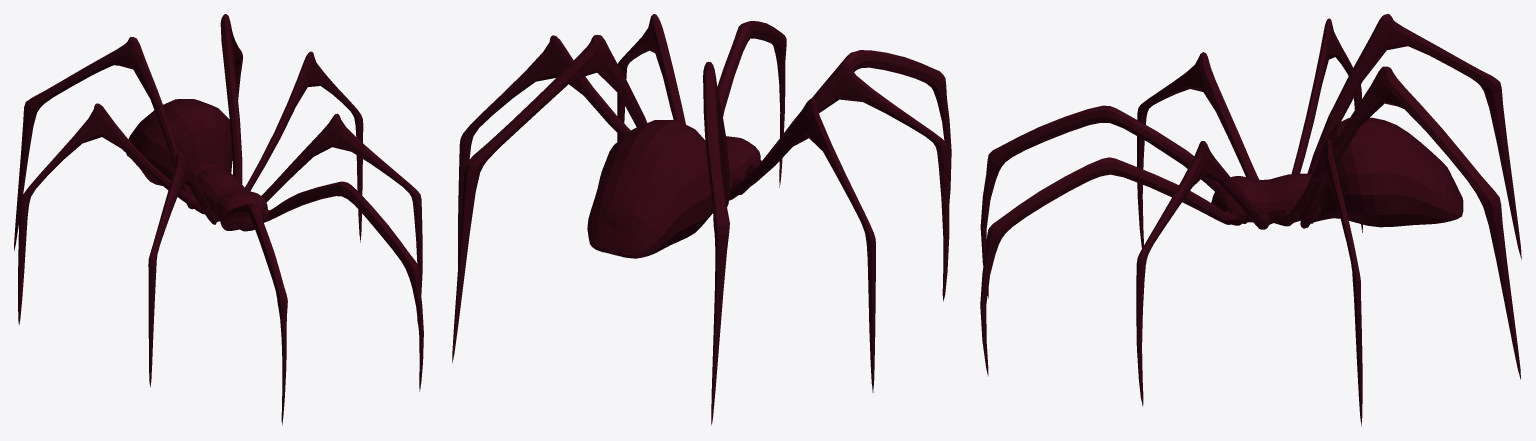
File: Spider.fbx
3 renders of one model, left to right at view 1: azimuth 30°, elevation 25°; view 2: azimuth 150°, elevation 25°; view 3: azimuth 270°, elevation 25°, orthographic. The views are drawn at different scales.
Parts seen in each view (by area): view 1: Cylinder; view 2: Cylinder; view 3: Cylinder.
Part boxes in pixels (x1=…): Cylinder: x1=14, y1=14, x2=423, y2=425; Cylinder: x1=452, y1=14, x2=951, y2=425; Cylinder: x1=980, y1=14, x2=1521, y2=426.
Size of the model in its own units: 762 by 463 by 645.
